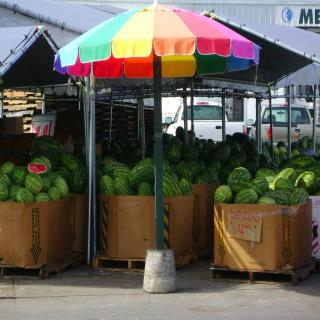Watermelon: (162, 123, 320, 207), (96, 156, 190, 195), (26, 136, 85, 191), (0, 158, 68, 203)
